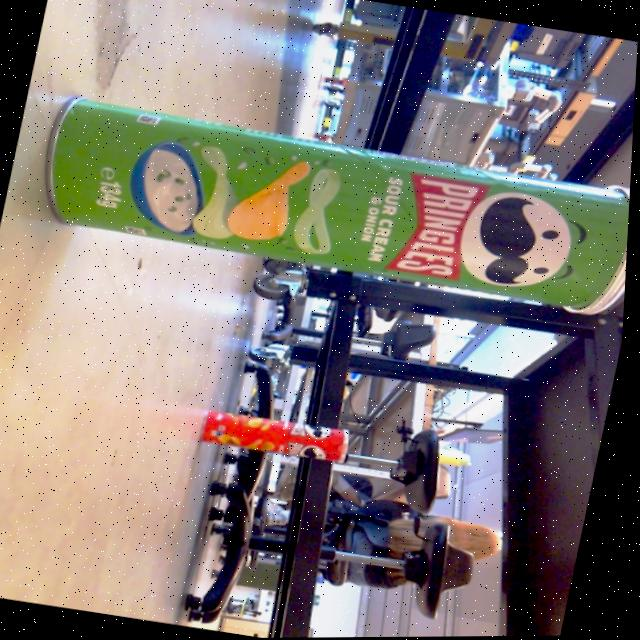greenpringles: (6, 70, 637, 338)
redpringles: (191, 385, 374, 478)
